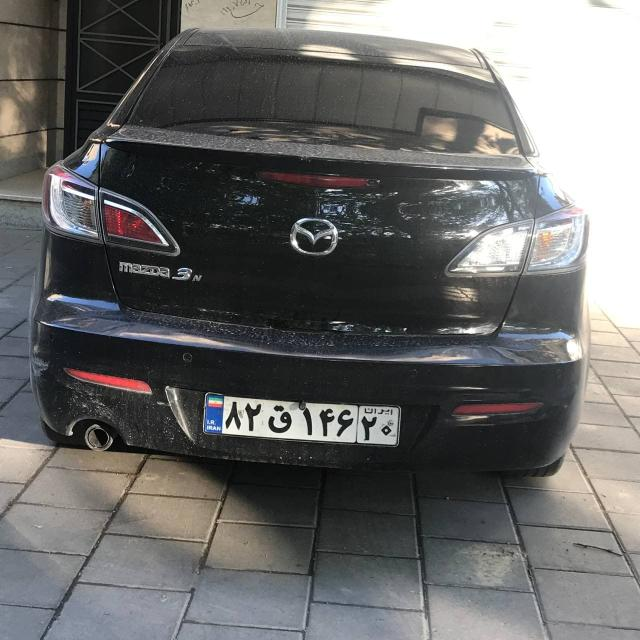Plates: (203, 393, 401, 446)
